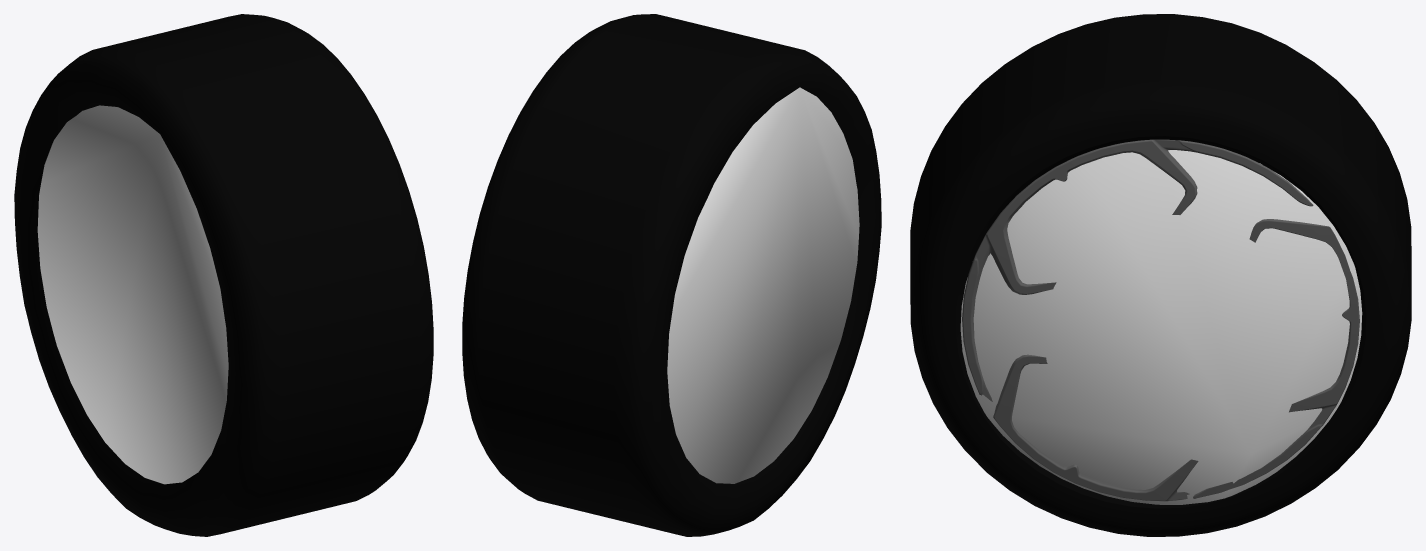
3 renders of one model, left to right at view 1: azimuth 30°, elevation 25°; view 2: azimuth 150°, elevation 25°; view 3: azimuth 270°, elevation 25°, orthographic.
Visible parts, largest first — view 1: wheel_eclipse_rear_01, wheel_eclipse_rear_01_col; view 2: wheel_eclipse_rear_01, wheel_eclipse_rear_01_col; view 3: wheel_eclipse_rear_01, wheel_eclipse_rear_01_col.
Boxes of the visible parts, x1,y1,x2,y2 form: wheel_eclipse_rear_01: (14, 14, 433, 536); wheel_eclipse_rear_01_col: (37, 105, 228, 484); wheel_eclipse_rear_01: (462, 14, 881, 536); wheel_eclipse_rear_01_col: (667, 87, 859, 483); wheel_eclipse_rear_01: (910, 14, 1411, 536); wheel_eclipse_rear_01_col: (960, 150, 1362, 504).
Size of the model in its own units: 0.3225 by 0.7189 by 0.7189.
7 materials, 6 textured.
